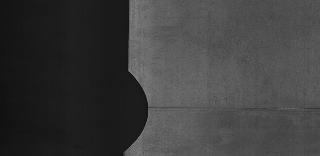welding line: (140, 101, 320, 115)
